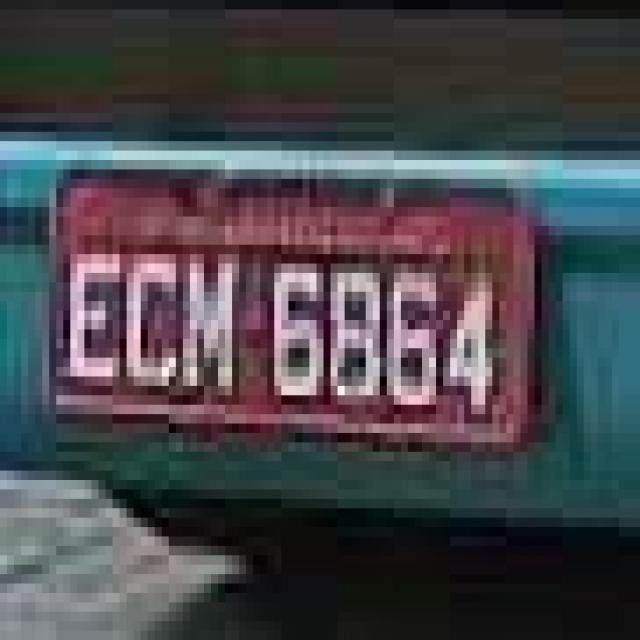4: (446, 266, 498, 423)
6: (268, 250, 328, 402), (386, 254, 440, 421)
8: (329, 256, 381, 402)
C: (123, 240, 183, 399)
E: (68, 239, 122, 392)
M: (187, 242, 236, 402)
